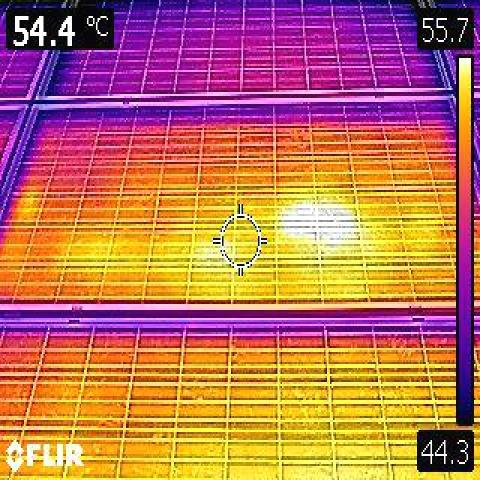fault: (277, 202, 317, 243), (322, 207, 358, 240)
